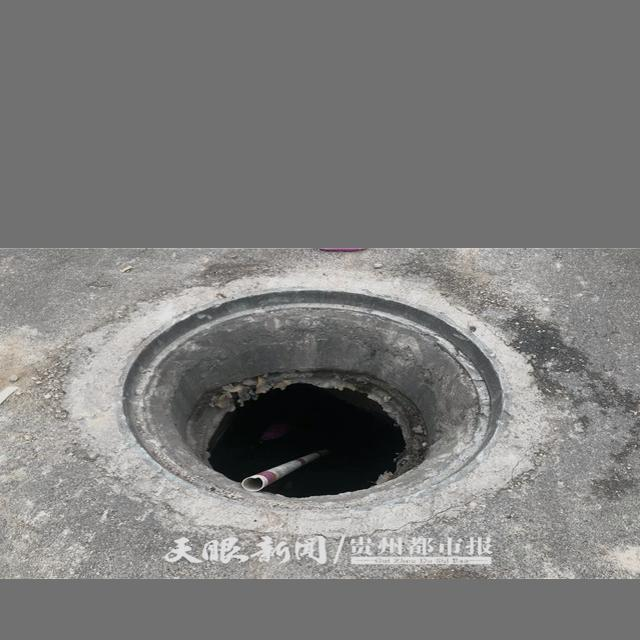lose: (80, 276, 543, 521)
